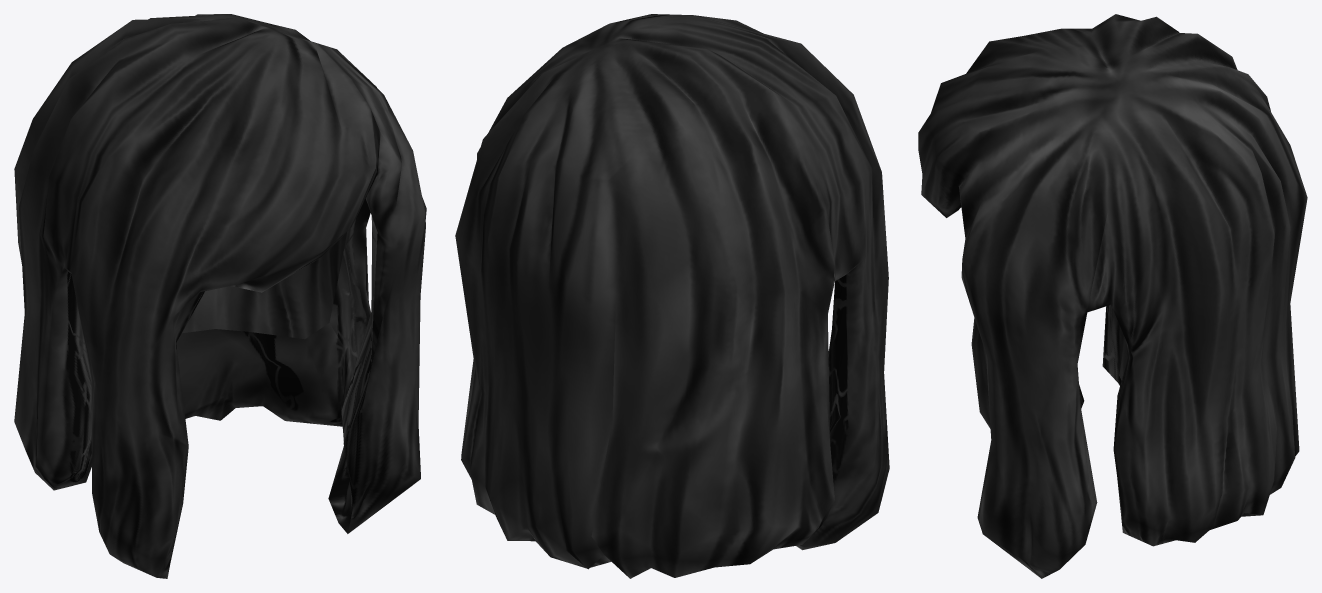
File: AF_M_hair_G_20.fbx
The picture shows the model from 3 angles, left to right: view 1: azimuth 30°, elevation 25°; view 2: azimuth 150°, elevation 25°; view 3: azimuth 270°, elevation 25°; orthographic projection. The views are drawn at different scales.
Visible parts, largest first — view 1: AF_M_hair_G_20; view 2: AF_M_hair_G_20; view 3: AF_M_hair_G_20.
Part boxes in pixels (<box>): AF_M_hair_G_20: <box>14,14,426,578</box>; AF_M_hair_G_20: <box>455,14,889,578</box>; AF_M_hair_G_20: <box>918,14,1307,578</box>.
Size of the model in its own units: 770 by 1074 by 764.
